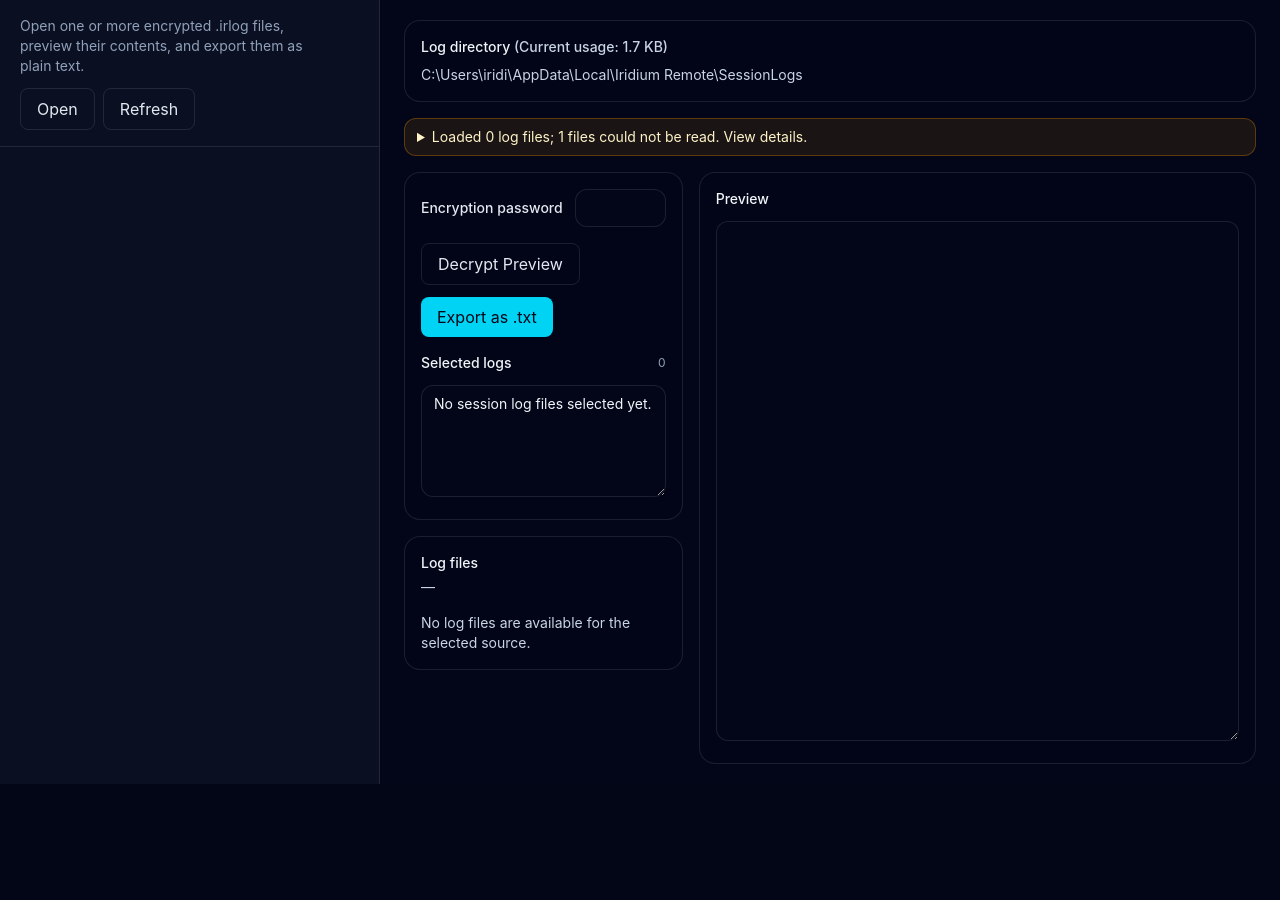
Scenario: SessionLogsWorkspace › reports all-invalid files separately from a genuinely empty directory
Check: the text "No session logs have been discovered yet." is not shown
Click the button "Refresh" at point(149, 109), box [103,88,195,130]
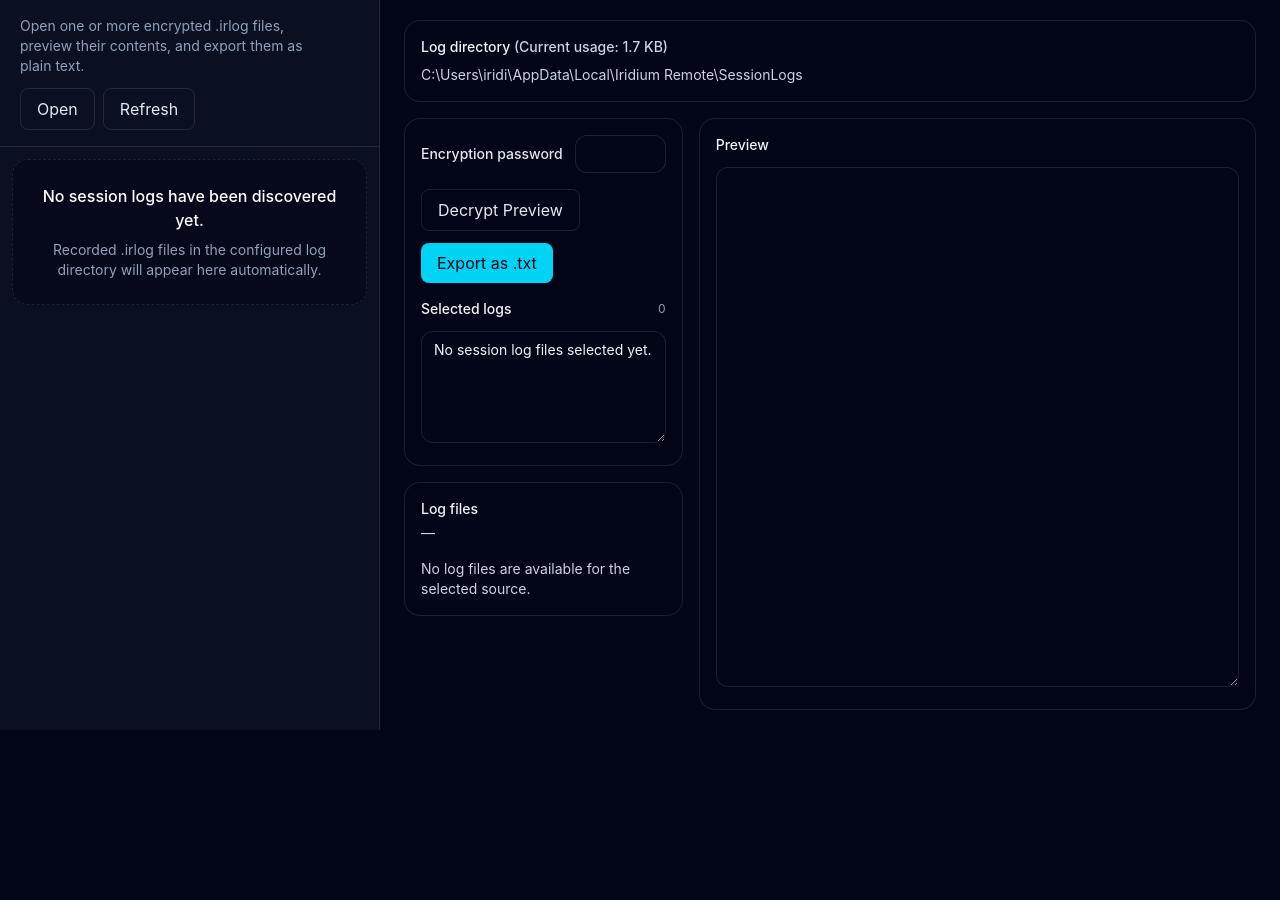
Check: the text "No session logs have been discovered yet." is shown, box [29,184,350,232]
